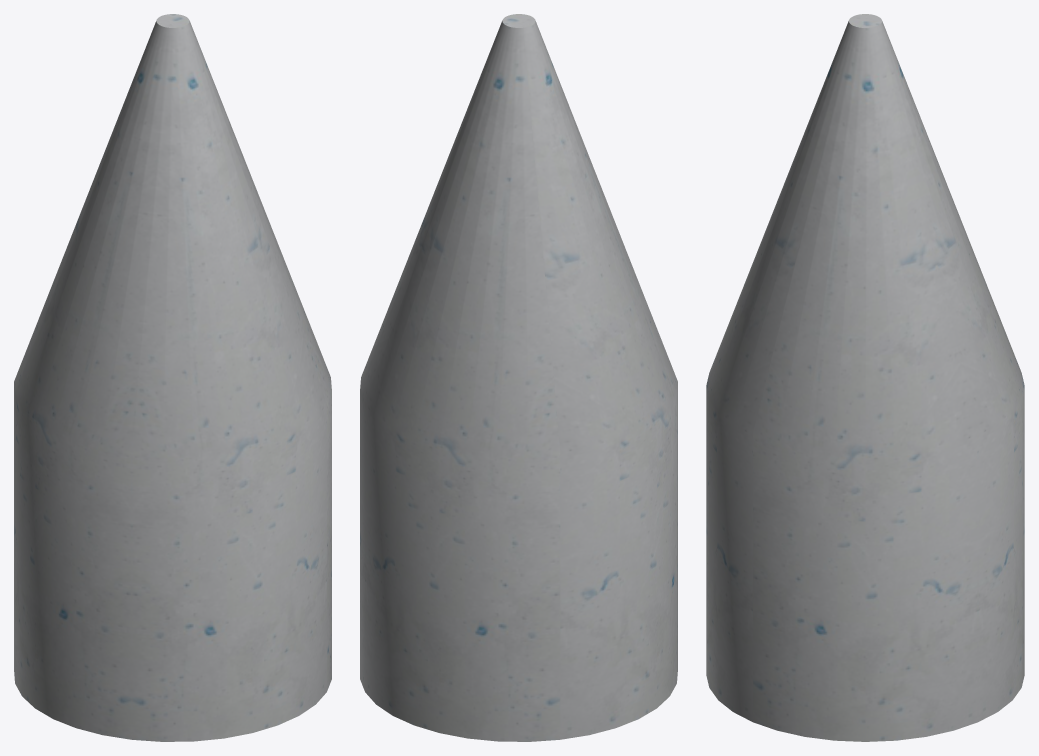
Rendered from Bullet.gltf.
The picture shows the model from 3 angles, left to right: view 1: azimuth 30°, elevation 25°; view 2: azimuth 150°, elevation 25°; view 3: azimuth 270°, elevation 25°; orthographic projection.
Visible parts, largest first — view 1: Cylinder.010; view 2: Cylinder.010; view 3: Cylinder.010.
Boxes of the visible parts, box(x1,y1,x2,y2) form: Cylinder.010: box(14, 14, 331, 741); Cylinder.010: box(360, 14, 677, 741); Cylinder.010: box(706, 14, 1024, 741).
Size of the model in its own units: 0.3557 by 0.8054 by 0.3557.
1 material, 1 textured.
